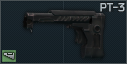AK Zenit PT-3 "Klassika" stock: (0, 0, 127, 64)
